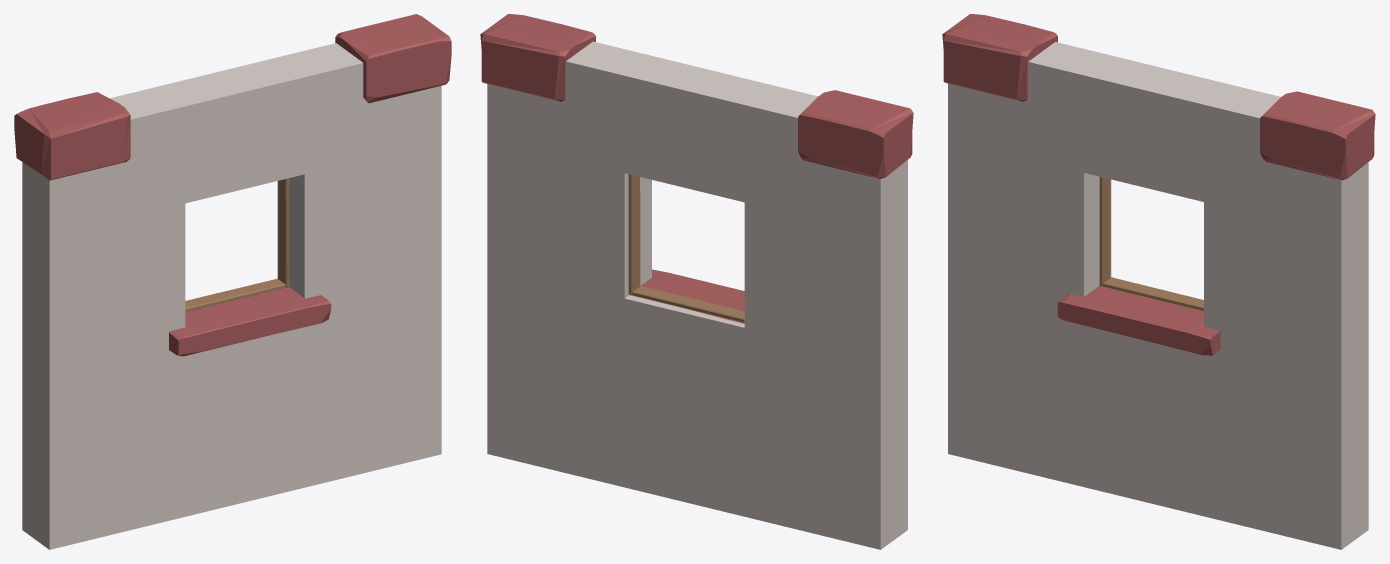
The model's file is PK_Wall_Window_Small.fbx.
The picture shows the model from 3 angles, left to right: view 1: azimuth 30°, elevation 25°; view 2: azimuth 150°, elevation 25°; view 3: azimuth 330°, elevation 25°; orthographic projection.
Visible parts, largest first — view 1: PK_Wall_Window_Small; view 2: PK_Wall_Window_Small; view 3: PK_Wall_Window_Small.
Part boxes in pixels (bbox=[...]): PK_Wall_Window_Small: bbox=[14, 14, 451, 549]; PK_Wall_Window_Small: bbox=[480, 14, 913, 549]; PK_Wall_Window_Small: bbox=[942, 14, 1375, 549].
Size of the model in its own units: 206 by 204 by 35.04.
